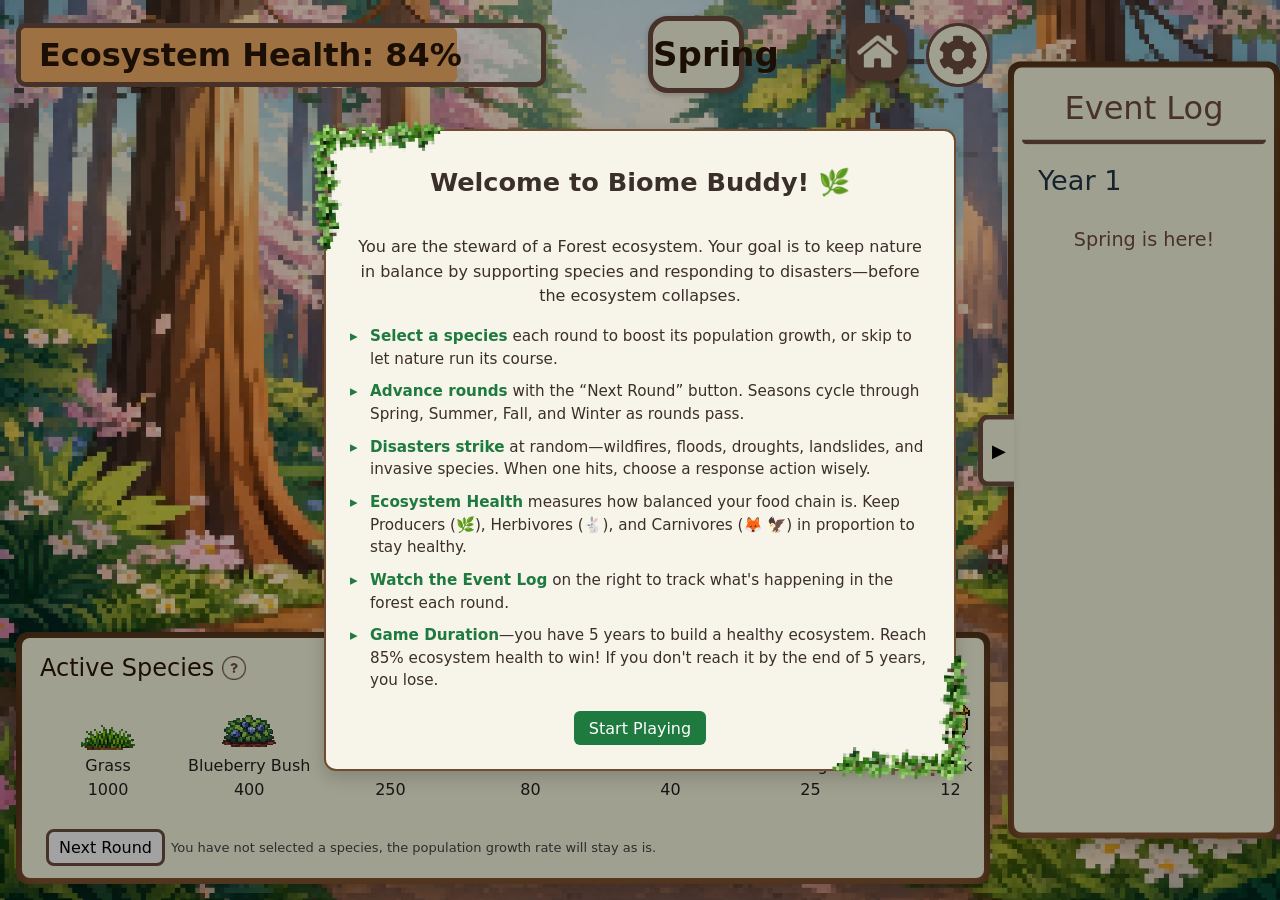
Test case: Game integration and components › instructions popup is dismissed after clicking Start Playing
The image size is (1280, 900).
Click the button "Start Playing".
click(640, 728)  # box [574,712,706,745]
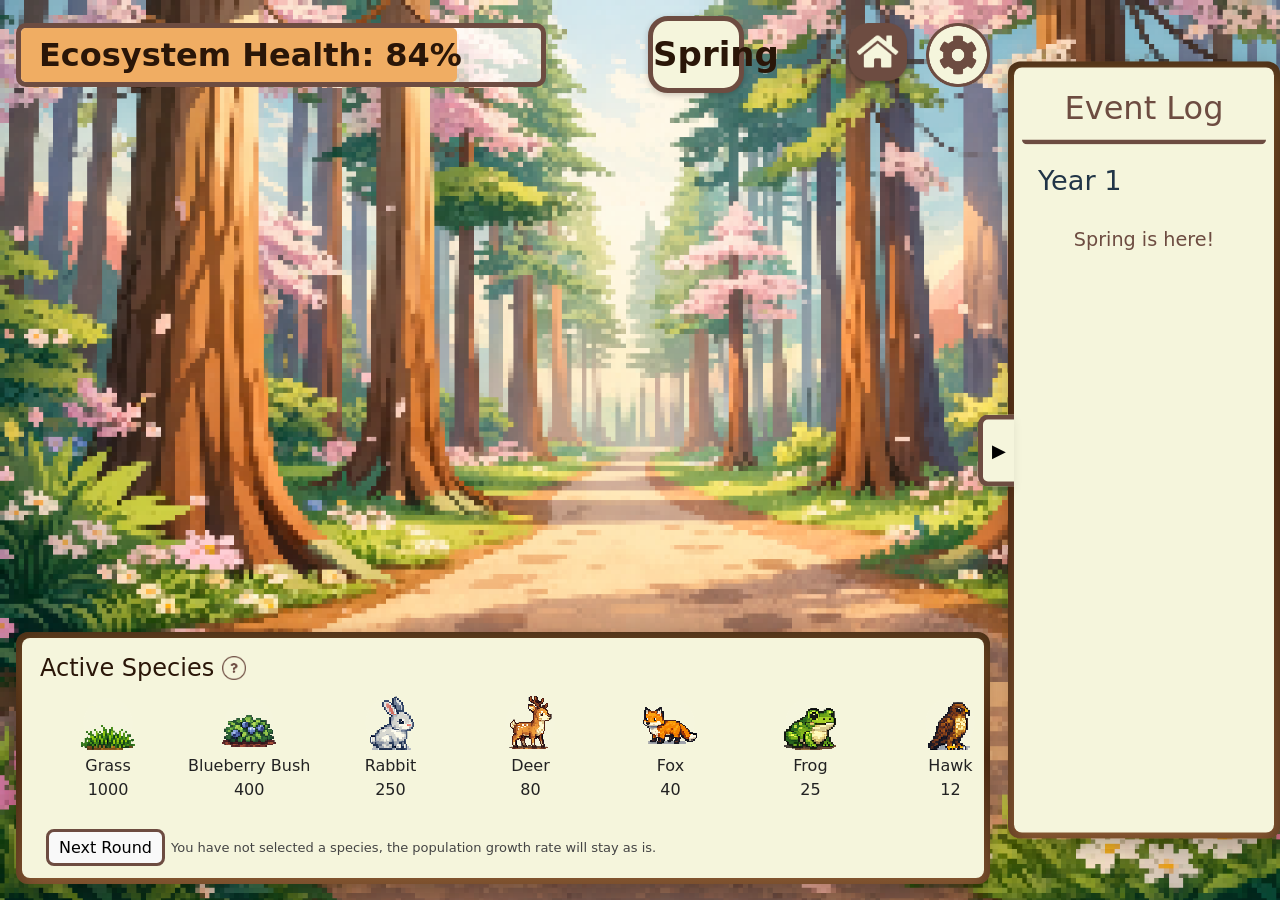
Expected: the heading "Welcome to Biome Buddy" is gone
